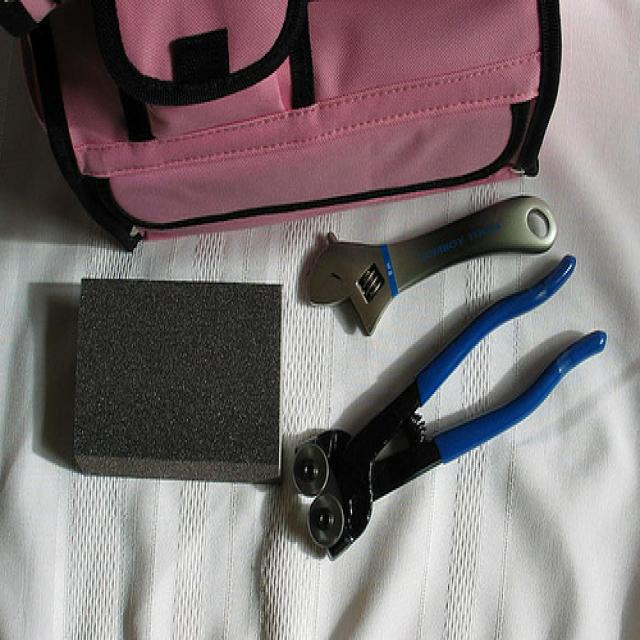wrench: (290, 189, 569, 340)
